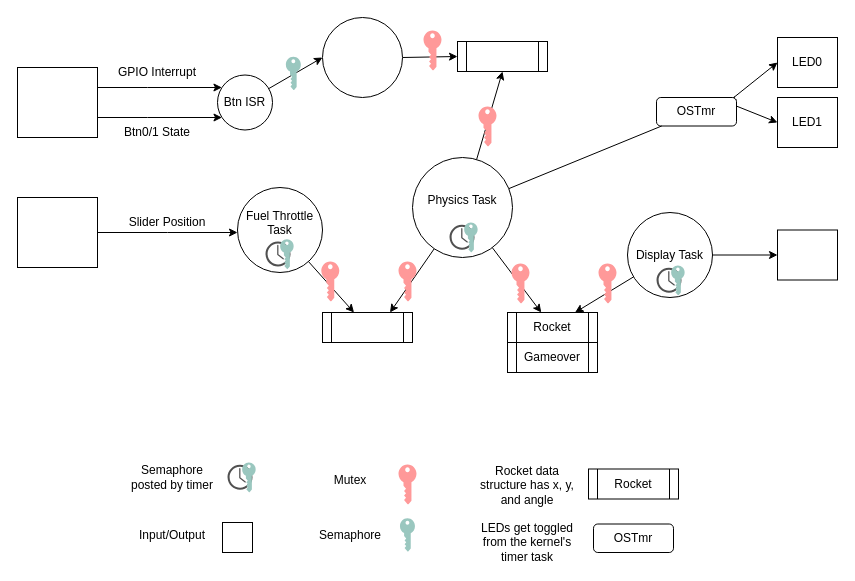
The diagram is 855 pixels wide and 581 high, and some of its shapes have lost their labels. The shapes that lost their labels are listed below. From the top down, each one's centre as x and y in pixels, then its label:
At pixel 362 57: "Angle Task".
At pixel 502 56: "Angle Setpoint".
At pixel 57 102: "Button0 Button1".
At pixel 57 232: "Slider".
At pixel 807 254: "LCD".
At pixel 367 327: "Throttle Setpoint".
